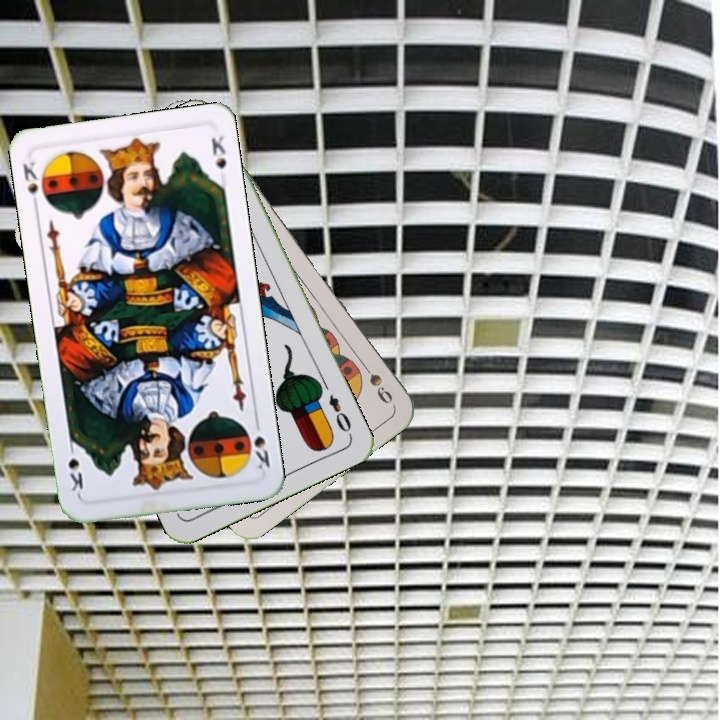EO: (324, 390, 354, 435)
S9: (355, 355, 396, 407)
SK: (18, 158, 51, 212), (250, 415, 273, 472)
